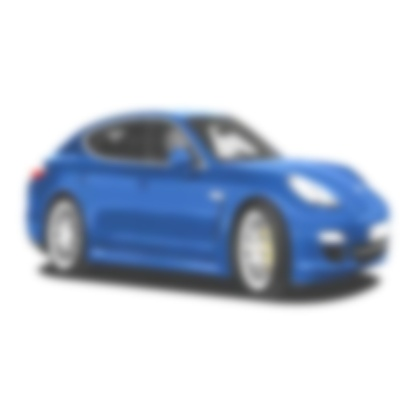Vehicle: (28, 110, 391, 302)
